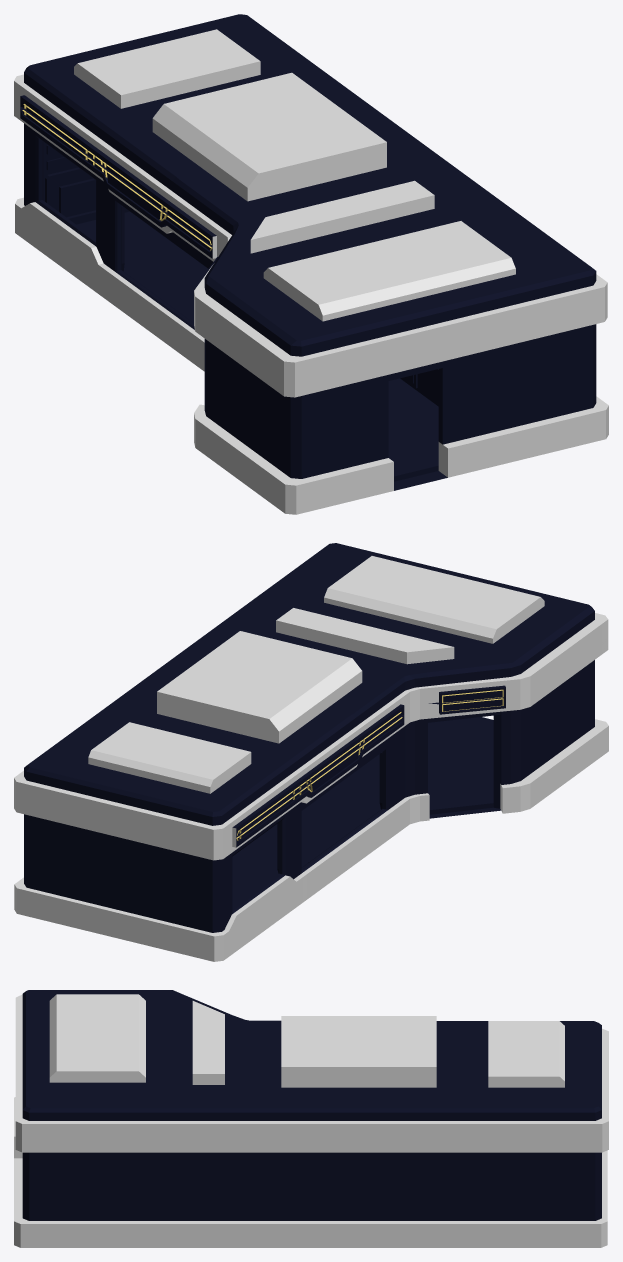
The model's file is Cafe.fbx.
The picture shows the model from 3 angles, top to bottom: view 1: azimuth 30°, elevation 25°; view 2: azimuth 150°, elevation 25°; view 3: azimuth 270°, elevation 25°; orthographic projection. The views are drawn at different scales.
Visible parts, largest first — view 1: Cube.001; view 2: Cube.001; view 3: Cube.001.
Part boxes in pixels (x1,y1,x2,y2): Cube.001: (14, 14, 608, 514); Cube.001: (14, 543, 608, 961); Cube.001: (14, 990, 608, 1247).
Size of the model in its own units: 1906 by 1072 by 3707.
